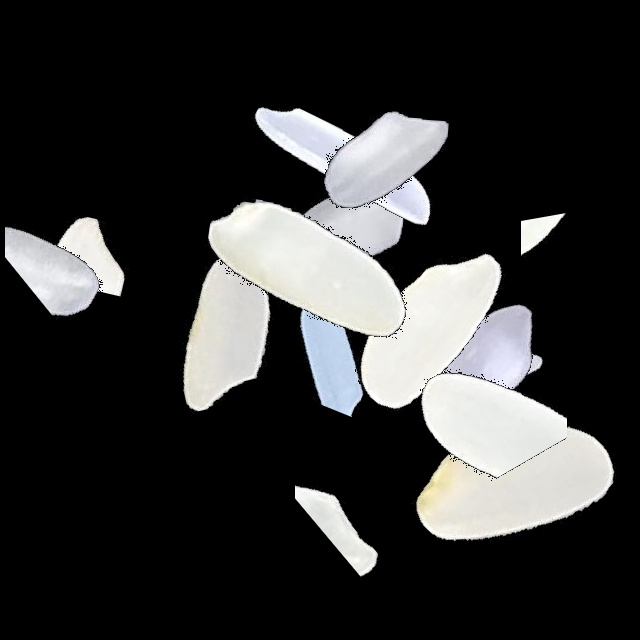Broken: (404, 265, 567, 515), (262, 201, 423, 451), (5, 107, 143, 357), (38, 112, 140, 362), (521, 132, 607, 382), (295, 359, 379, 609)
Full: (226, 97, 476, 347), (340, 241, 590, 491), (367, 229, 617, 479), (303, 201, 553, 451), (389, 360, 639, 610), (96, 205, 346, 455), (218, 35, 468, 285), (181, 142, 431, 392), (259, 34, 509, 284)
